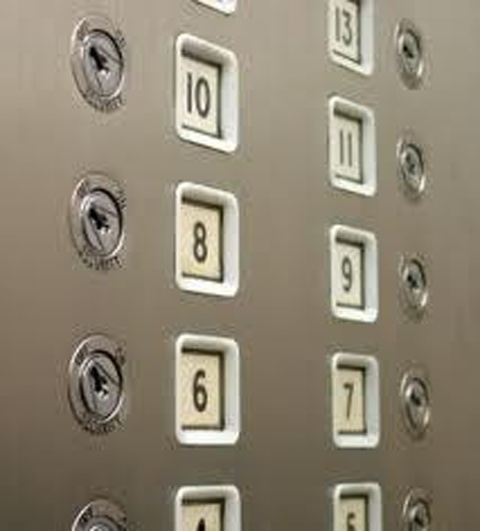10: (166, 26, 248, 163)
11: (321, 92, 383, 204)
6: (167, 320, 249, 457)
7: (324, 344, 386, 456)
8: (165, 172, 247, 309)
9: (323, 218, 385, 330)
keyhole: (64, 9, 136, 119), (62, 328, 132, 440), (65, 167, 132, 278), (381, 12, 437, 95), (386, 362, 442, 443), (383, 244, 439, 325), (383, 127, 439, 208)
